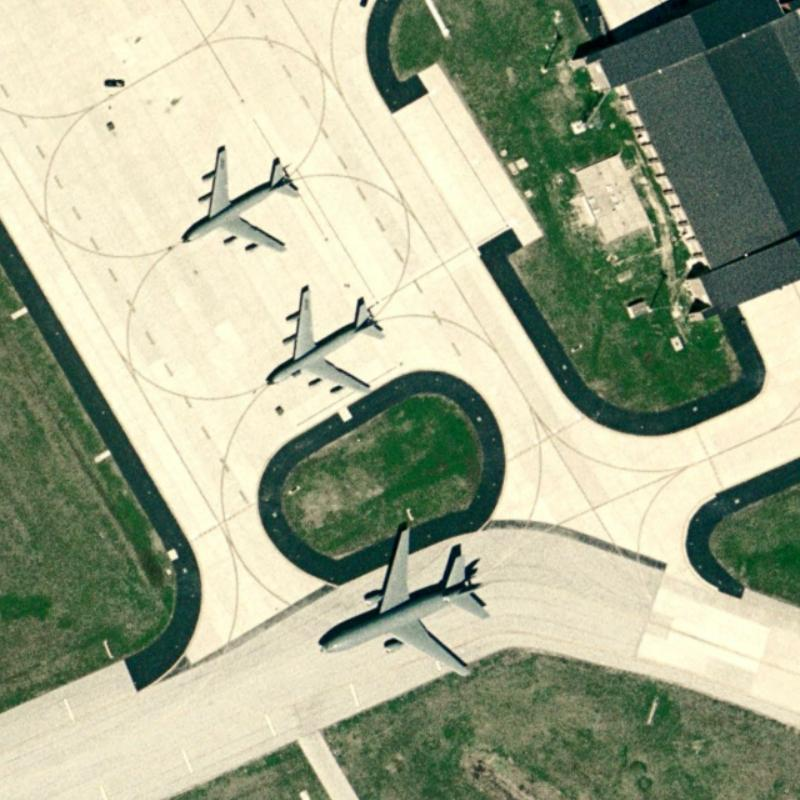A14: (173, 137, 305, 259), (258, 281, 388, 393)
A18: (312, 511, 492, 682)
